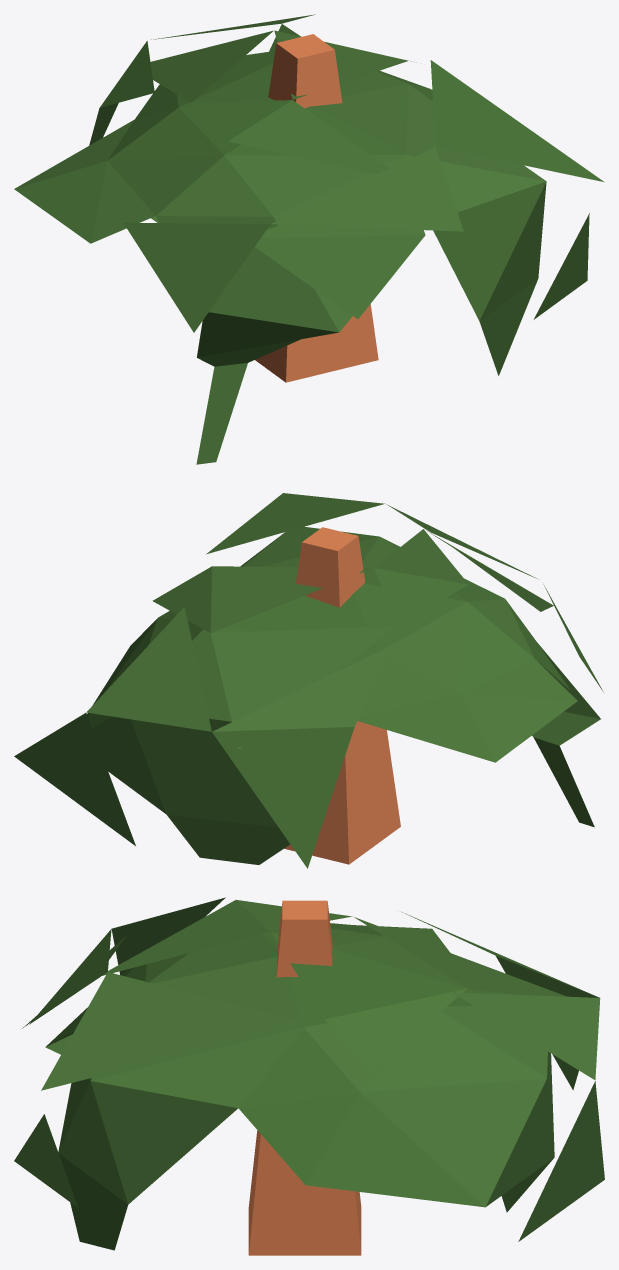
The picture shows the model from 3 angles, top to bottom: view 1: azimuth 30°, elevation 25°; view 2: azimuth 150°, elevation 25°; view 3: azimuth 270°, elevation 25°; orthographic projection. The views are drawn at different scales.
Parts seen in each view (by area): view 1: Icosphere.001; view 2: Icosphere.001; view 3: Icosphere.001.
Boxes of the visible parts, x1=… form: Icosphere.001: x1=14, y1=14, x2=604, y2=464; Icosphere.001: x1=14, y1=493, x2=603, y2=868; Icosphere.001: x1=14, y1=897, x2=604, y2=1255.
Bounding box in the file's own units: 217 × 140 × 229.
